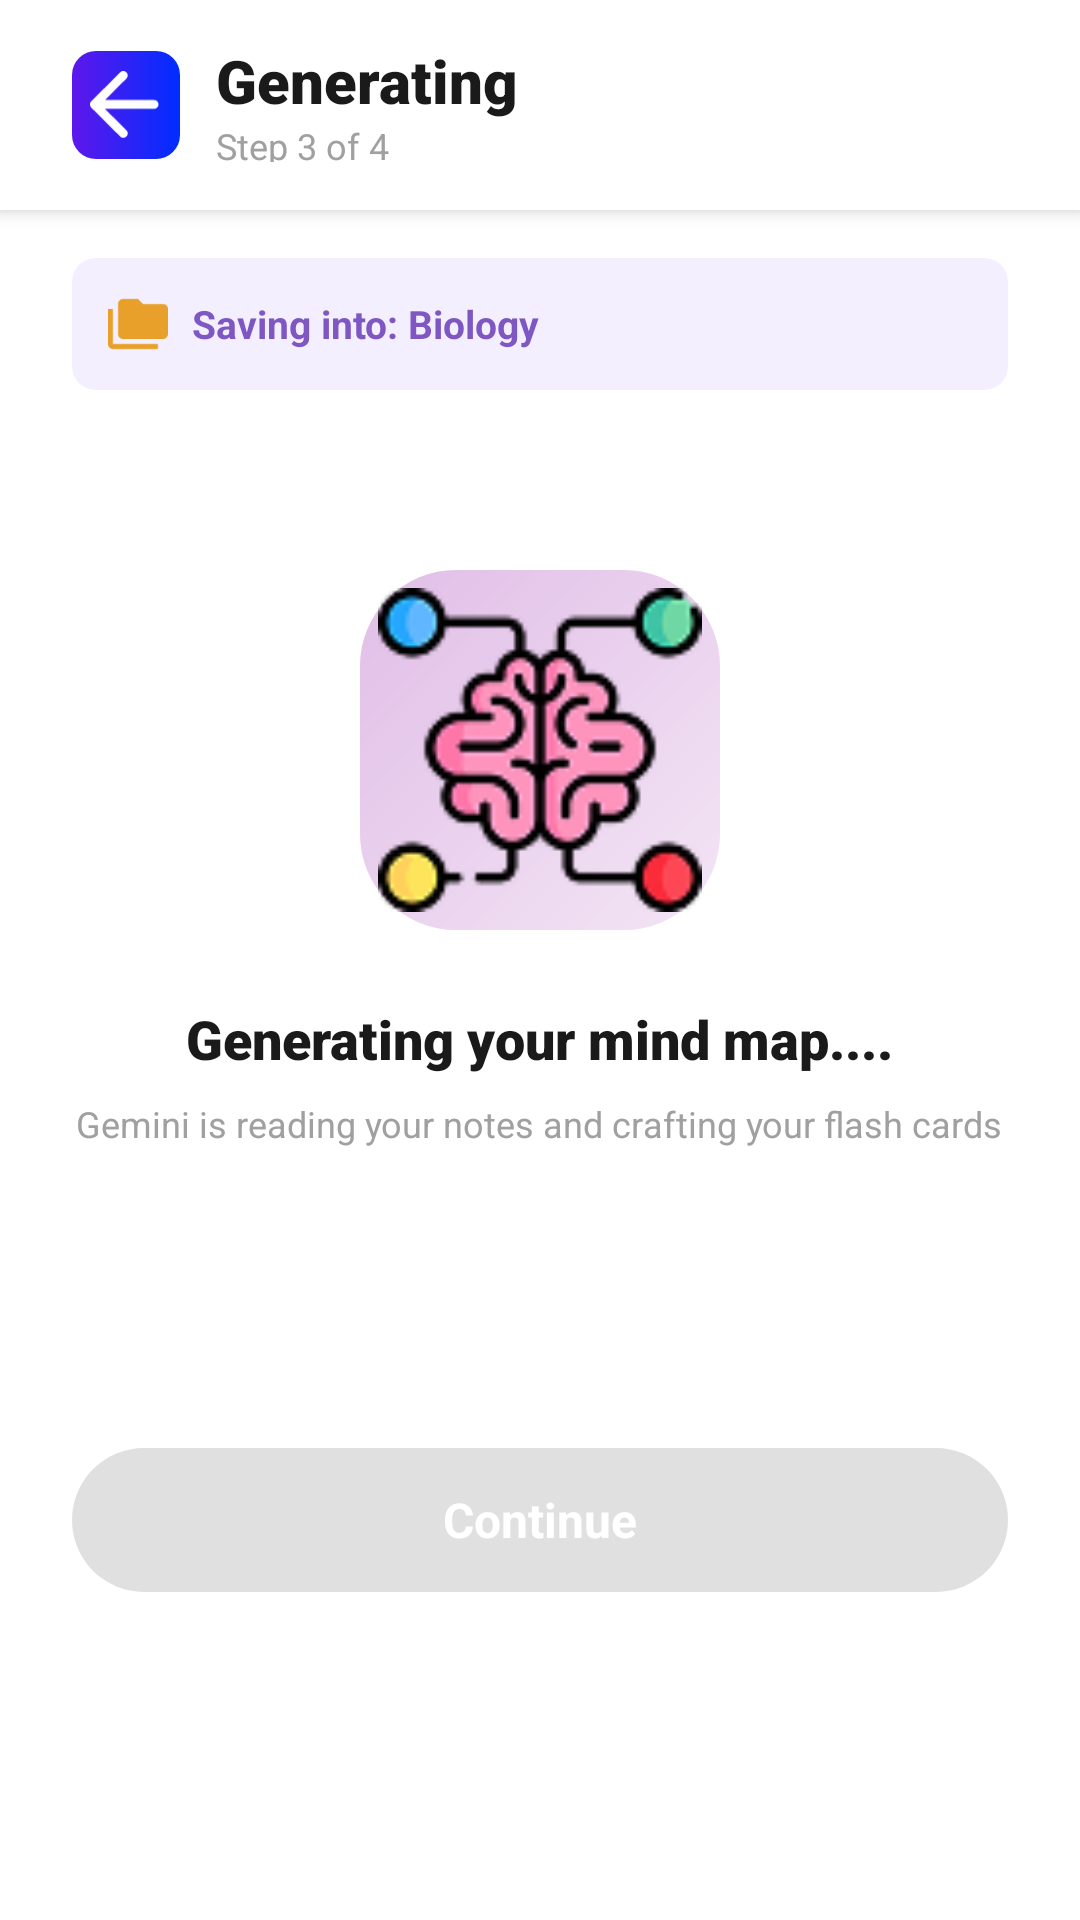

Named icons in this screenshot (1080 × 1920) and their bounding boxes, box=[x1, y1, x2, y2]:
back arrow: box=[72, 51, 180, 159]
folder: box=[108, 298, 168, 350]
generating brain: box=[360, 570, 720, 930]
